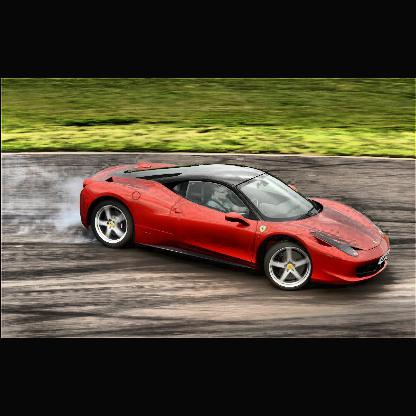Ferrari 458 Italia Coupe 2012: (78, 161, 392, 293)
